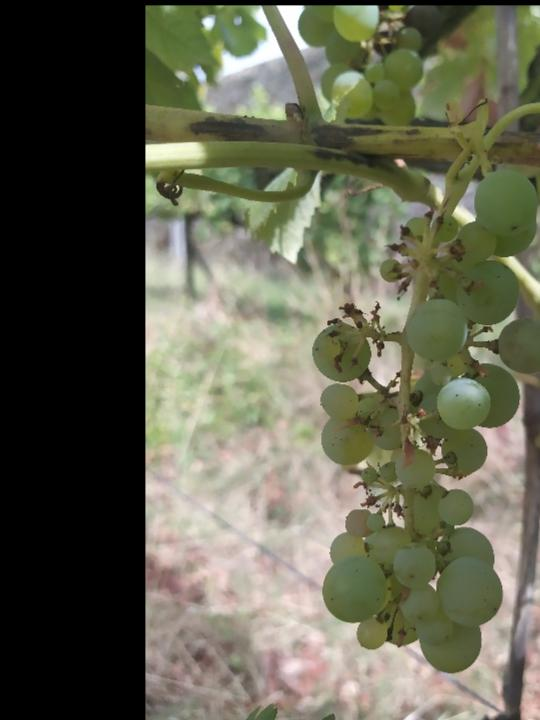grape: (307, 165, 540, 677)
